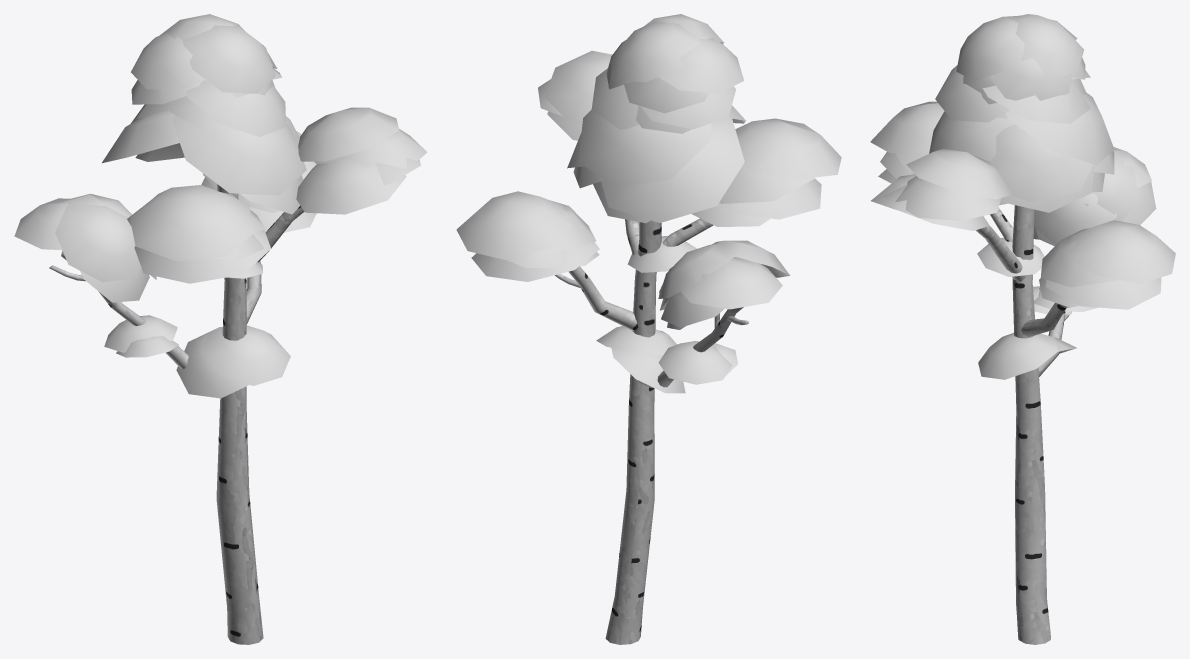
File: flower_path.glb
3 views of the same model, side by side, from view 1: azimuth 30°, elevation 25°; view 2: azimuth 150°, elevation 25°; view 3: azimuth 270°, elevation 25° (orthographic). The views are drawn at different scales.
Visible parts, largest first — view 1: Birch_10; view 2: Birch_10; view 3: Birch_10.
Part boxes in pixels (bbox=[...]): Birch_10: bbox=[14, 14, 427, 644]; Birch_10: bbox=[456, 14, 841, 644]; Birch_10: bbox=[870, 14, 1175, 644].
Size of what is drawn, in the model's own units: 5.36 by 10.23 by 4.74.
2 materials, 1 textured.
